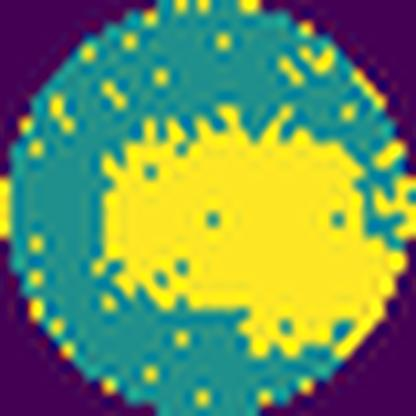Loc: (101, 104, 406, 356)
